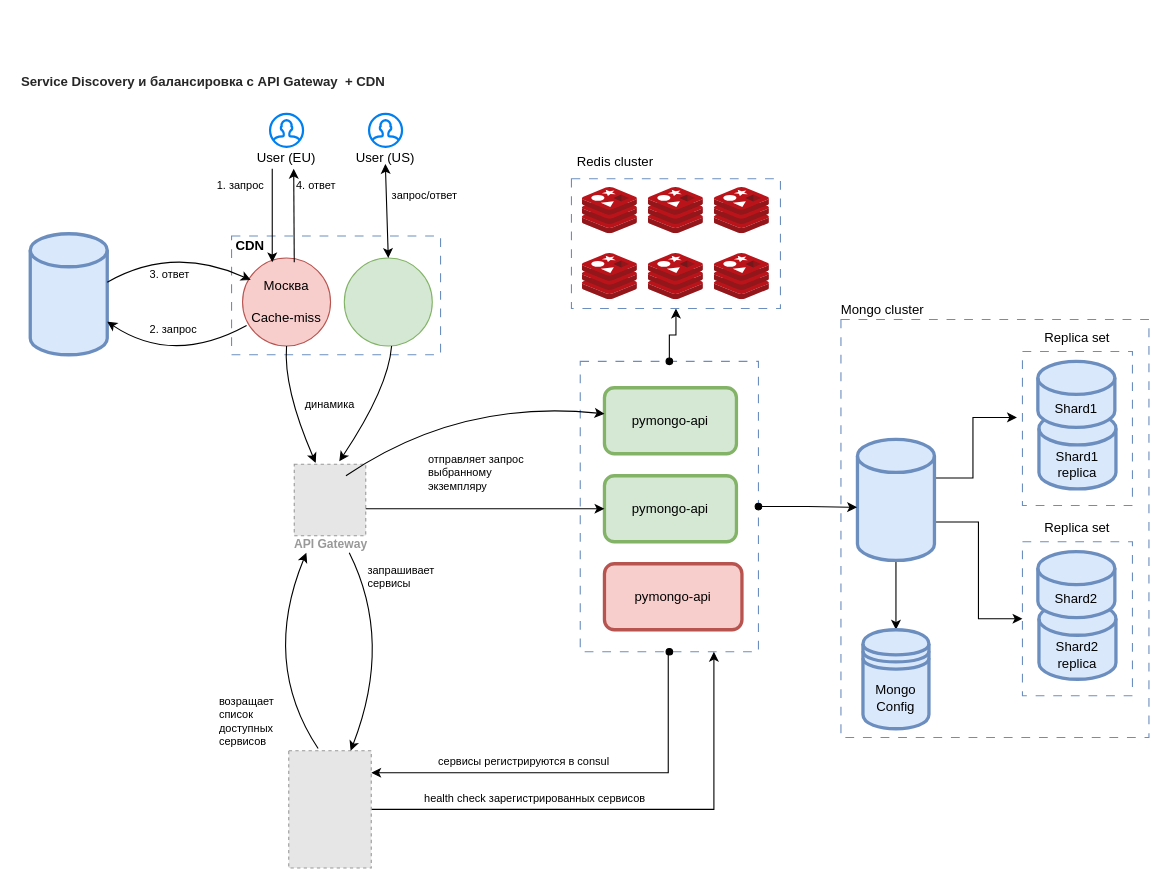
Some shapes in this 1168 by 888 pixel diagram are drawn without their labels. Grey dashed boxes stand in for pictures. The shapes that lost their labels are listed below. From the top down, each one's box as (x1, y1, x2, y2) in pixels, then its label:
(28, 232, 108, 356): Origin (статика)
(343, 257, 432, 346): Нью-Йорк Cache-HIT
(855, 437, 936, 562): Mongo Router
